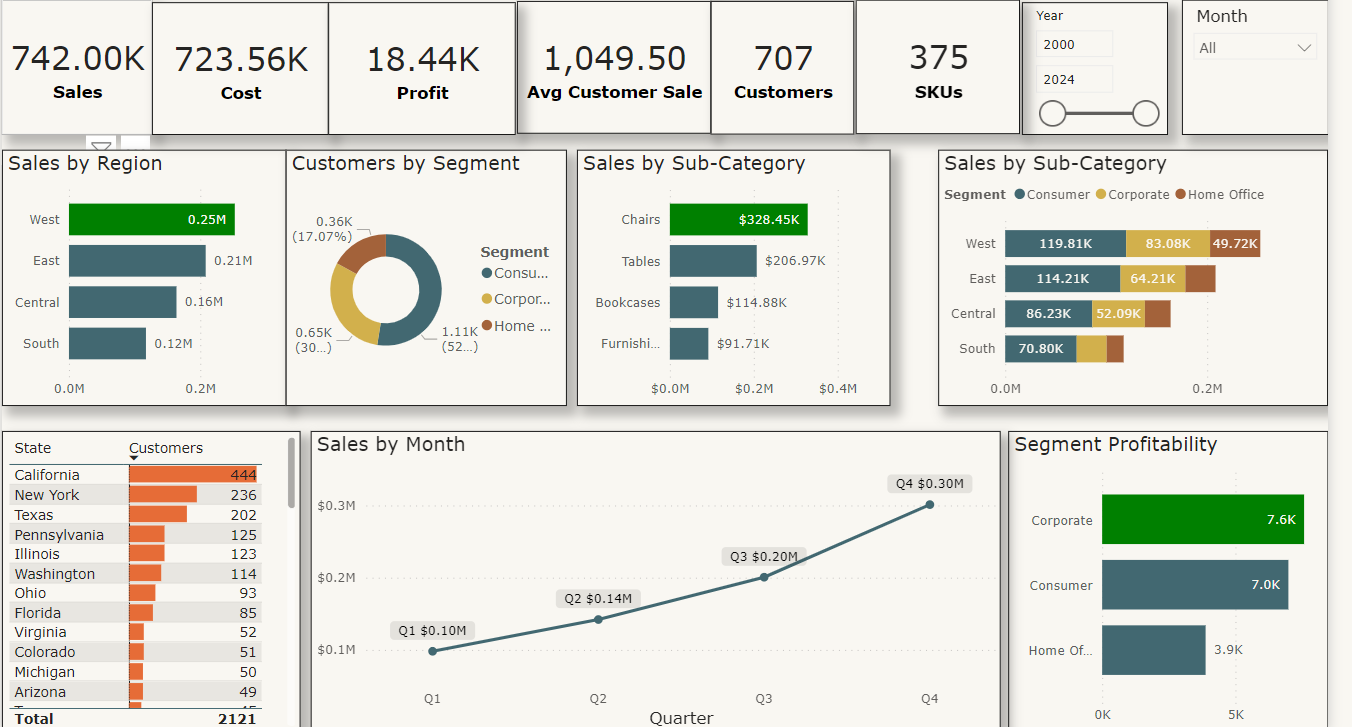

Layout of this report page (visuals, bound fields, positions):
{"tool":"powerbi","page":{"name":"Revenue","canvas":[1280,720],"ordinal":0},"visuals":[{"type":"card","fields":{"Values":["Sum(Super_Store_data.Sales)"]},"box":[0,99.3,172.5,130.3],"z":0,"group":"g1"},{"type":"barChart","title":"Regional","fields":{"Y":["Sum(Super_Store_data.Sales)"],"Category":["Super_Store_data.Region"]},"box":[0,236.4,293.1,246],"z":0},{"type":"card","fields":{"Values":["Calculations.Sales_Average"]},"box":[552.4,97.4,227.9,133.9],"z":1000,"group":"g1"},{"type":"funnel","title":"Sales","fields":{"Category":["Super_Store_data.Segment"],"Y":["CountNonNull(Super_Store_data.Customer ID)"]},"box":[293.1,236.4,307.5,246],"z":1000},{"type":"clusteredBarChart","title":"Sub-Category","fields":{"Category":["Super_Store_data.Sub-Category"],"Y":["Calculations.Total_Sales"]},"box":[600.6,237.6,302.7,247.2],"z":2000},{"type":"tableEx","title":"Sales by Region","fields":{"Values":["Super_Store_data.State","Super_Store_data.Customer ID"]},"box":[0,486.8,288.2,233.2],"z":3000},{"type":"barChart","title":"Segment Profitability","fields":{"Category":["Super_Store_data.Segment"],"Y":["Calculations.Profit_Per_Category"]},"box":[970.9,487.2,308.7,232.8],"z":4000},{"type":"barChart","title":"Ship Mode","fields":{"Category":["Super_Store_data.Ship Mode"],"Y":["Sum(Super_Store_data.Sales)"]},"box":[911.8,236.4,367.8,247.2],"z":5000},{"type":"slicer","fields":{"Values":["DimDate.Year"]},"box":[988.9,96.2,152,130.3],"z":6000,"group":"g1"},{"type":"lineStackedColumnComboChart","title":"Sales by Month","fields":{"Category":["DimDate.Year","DimDate.Quarter","DimDate.MonthNameShort"],"Y":["Calculations.Total_Sales"]},"box":[297.9,486.8,665.9,233.2],"z":6000},{"type":"group","id":"g1","title":"Group 1","box":[0,95.3,1279.3,135.9],"z":7000},{"type":"card","fields":{"Values":["Calculations.Average_Profit_Product"]},"box":[788.7,97.4,190.6,129],"z":8000,"group":"g1"},{"type":"textbox","box":[320.1,12.4,686.3,70.9],"z":8000},{"type":"card","fields":{"Values":["Sum(Super_Store_data.Total Cost)"]},"box":[172.5,98.5,189.3,130.3],"z":9000,"group":"g1"},{"type":"card","fields":{"Values":["Sum(Super_Store_data.Profit)"]},"box":[361.8,98.6,190.6,130.3],"z":10000,"group":"g1"},{"type":"slicer","fields":{"Values":["DimDate.MonthNameShort"]},"box":[1157.8,95.3,121.5,133.9],"z":15000,"group":"g1"}]}

Visuals, with their boxes on the page's 1280x720 design canvas (x1, y1, x2, y2). These are canvas units, not pixel positions in the 1352x727 screenshot, which may show the page scaled, cropped or inside an application window:
card - Sum(Super_Store_data.Sales): locate(0, 99, 172, 230)
"Regional" barChart: locate(0, 236, 293, 482)
card - Calculations.Sales_Average: locate(552, 97, 780, 231)
"Sales" funnel: locate(293, 236, 601, 482)
"Sub-Category" clusteredBarChart: locate(601, 238, 903, 485)
"Sales by Region" tableEx: locate(0, 487, 288, 720)
"Segment Profitability" barChart: locate(971, 487, 1280, 720)
"Ship Mode" barChart: locate(912, 236, 1280, 484)
slicer - DimDate.Year: locate(989, 96, 1141, 226)
"Sales by Month" lineStackedColumnComboChart: locate(298, 487, 964, 720)
"Group 1" group: locate(0, 95, 1279, 231)
card - Calculations.Average_Profit_Product: locate(789, 97, 979, 226)
textbox: locate(320, 12, 1006, 83)
card - Sum(Super_Store_data.Total Cost): locate(172, 98, 362, 229)
card - Sum(Super_Store_data.Profit): locate(362, 99, 552, 229)
slicer - DimDate.MonthNameShort: locate(1158, 95, 1279, 229)
